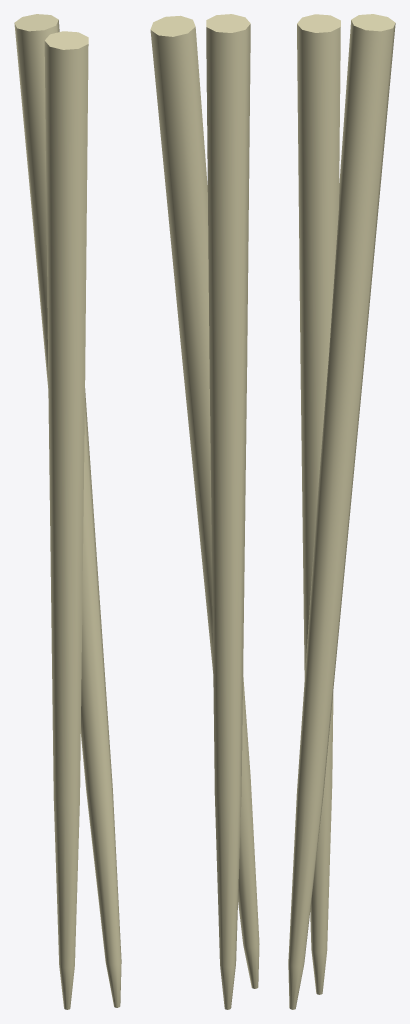
The model's file is chopsticks.fbx.
The picture shows the model from 3 angles, left to right: view 1: azimuth 90°, elevation 25°; view 2: azimuth 150°, elevation 25°; view 3: azimuth 330°, elevation 25°; orthographic projection.
Parts seen in each view (by area): view 1: Chopsticks; view 2: Chopsticks; view 3: Chopsticks.
Part boxes in pixels (x1=…): Chopsticks: x1=14, y1=14, x2=121, y2=1009; Chopsticks: x1=150, y1=14, x2=259, y2=1009; Chopsticks: x1=288, y1=14, x2=395, y2=1009.
Size of the model in its own units: 0.0557 by 0.6682 by 0.0669.
